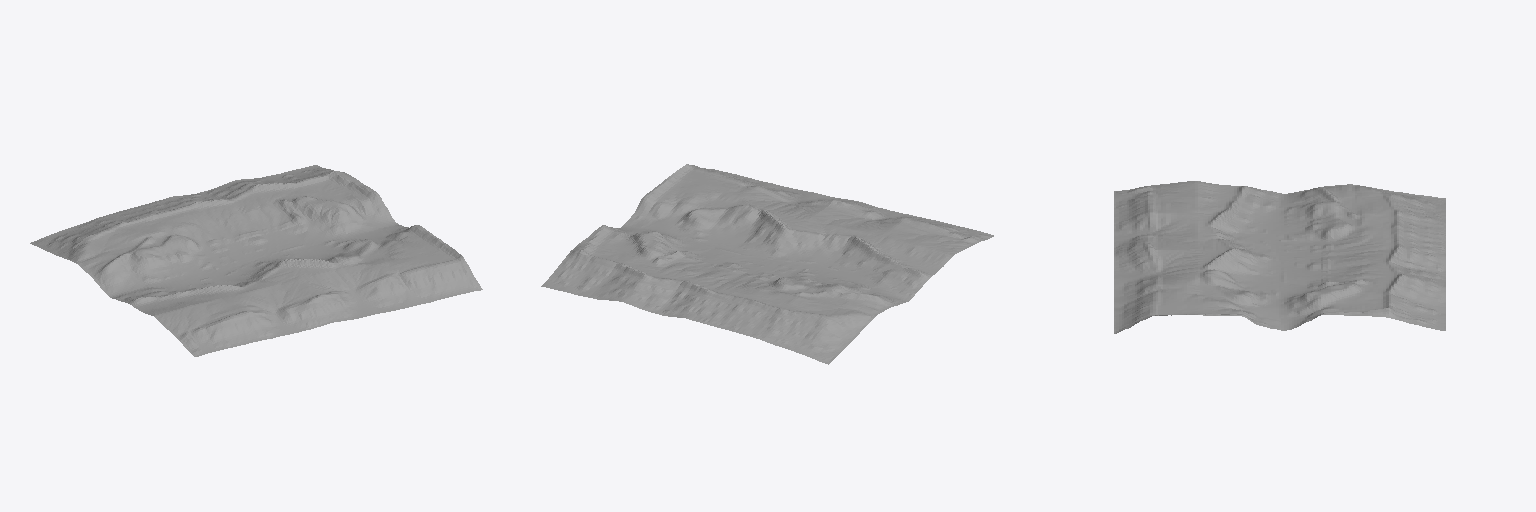
File: mountains.obj
3 views of the same model, side by side, from view 1: azimuth 30°, elevation 25°; view 2: azimuth 150°, elevation 25°; view 3: azimuth 270°, elevation 25° (orthographic).
Visible parts, largest first — view 1: TerrainMes; view 2: TerrainMes; view 3: TerrainMes.
Part boxes in pixels (bbox=[...]): TerrainMes: bbox=[30, 165, 482, 356]; TerrainMes: bbox=[541, 164, 993, 364]; TerrainMes: bbox=[1114, 181, 1445, 333].
Size of the model in its own units: 254 by 21.53 by 254.